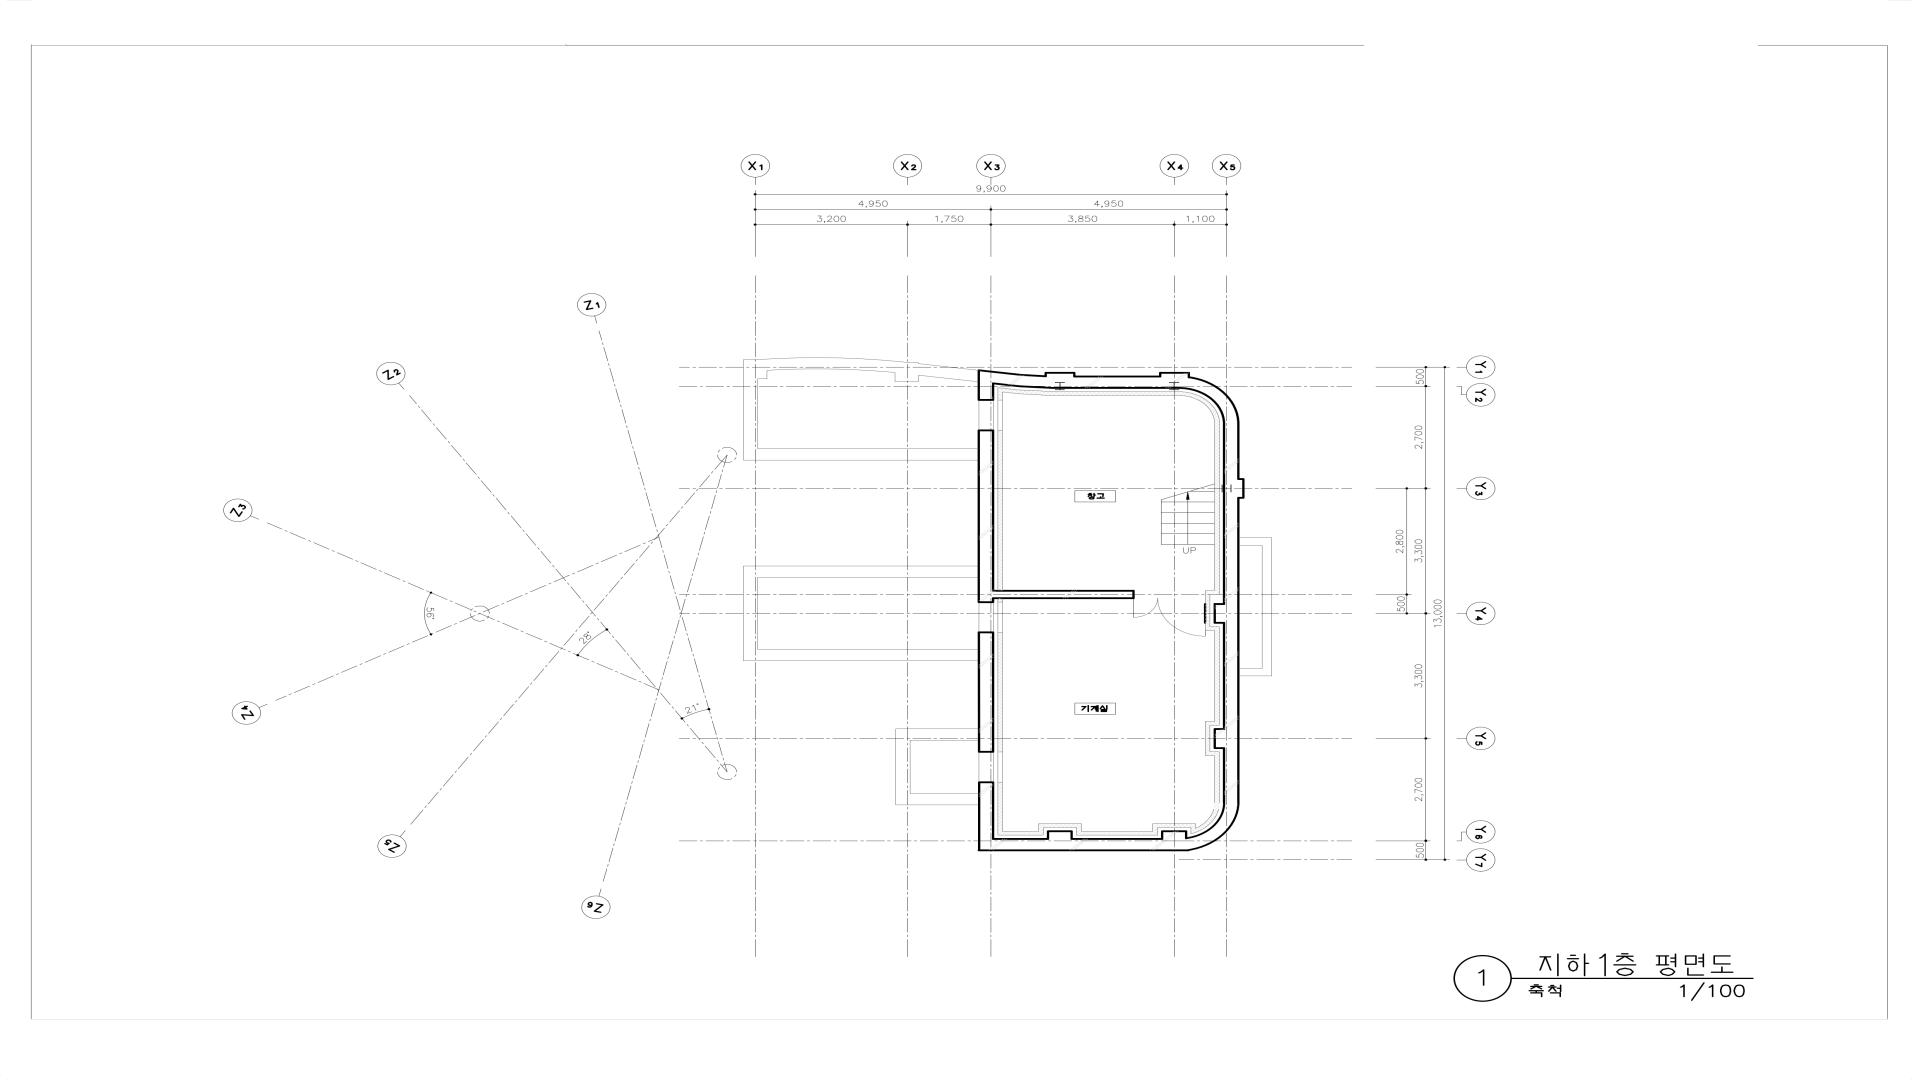door: (1133, 595, 1205, 637)
wall: (1188, 377, 1240, 851), (994, 371, 1190, 390), (978, 430, 994, 603), (978, 838, 1188, 851), (978, 632, 994, 753), (994, 590, 1135, 599), (978, 781, 994, 838), (978, 369, 994, 401), (1161, 830, 1188, 838), (1047, 830, 1073, 838), (1214, 728, 1223, 749), (1214, 603, 1223, 624), (1239, 478, 1245, 499), (1159, 372, 1190, 376), (1045, 372, 1076, 376)
window: (979, 401, 994, 430), (979, 603, 994, 632), (979, 753, 993, 782)
